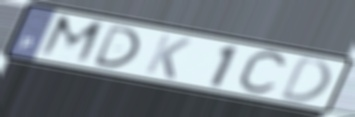1: (208, 43, 243, 89)
C: (234, 49, 291, 97)
D: (276, 54, 334, 104), (90, 23, 142, 70)
K: (141, 32, 195, 82)
M: (34, 12, 109, 68)
